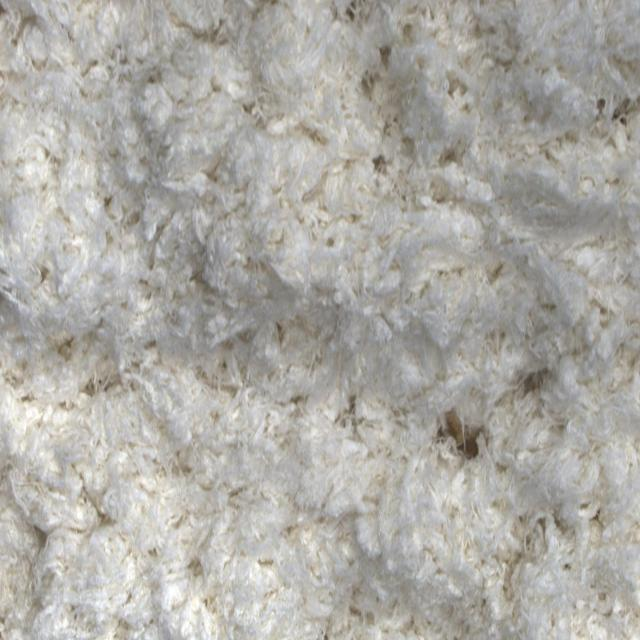dust: (447, 408, 483, 472)
